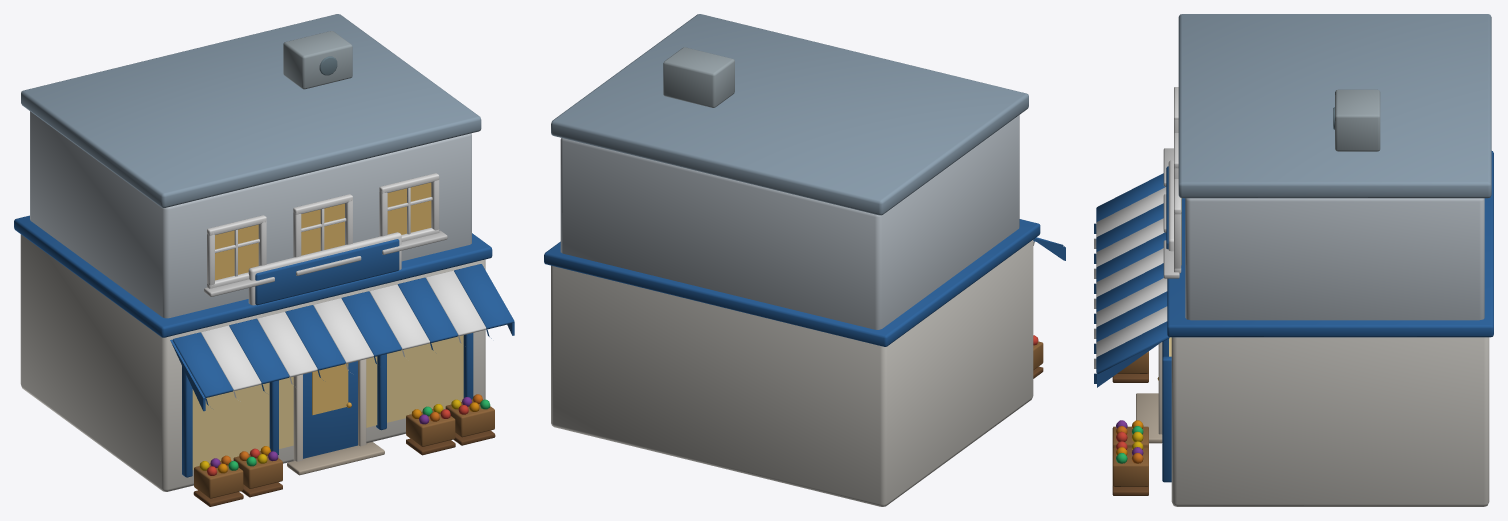
Rendered from bld_minimarket.glb.
3 renders of one model, left to right at view 1: azimuth 30°, elevation 25°; view 2: azimuth 150°, elevation 25°; view 3: azimuth 270°, elevation 25°, orthographic. The views are drawn at different scales.
Parts seen in each view (by area): view 1: bld_minimarket, Glass_bld_minimarket; view 2: bld_minimarket; view 3: bld_minimarket.
Boxes of the visible parts, x1,y1,x2,y2 form: bld_minimarket: [14, 14, 514, 506]; Glass_bld_minimarket: [192, 182, 463, 469]; bld_minimarket: [544, 14, 1065, 506]; bld_minimarket: [1094, 14, 1493, 506].
Size of the model in its own units: 9.2 by 8.8 by 8.81.
